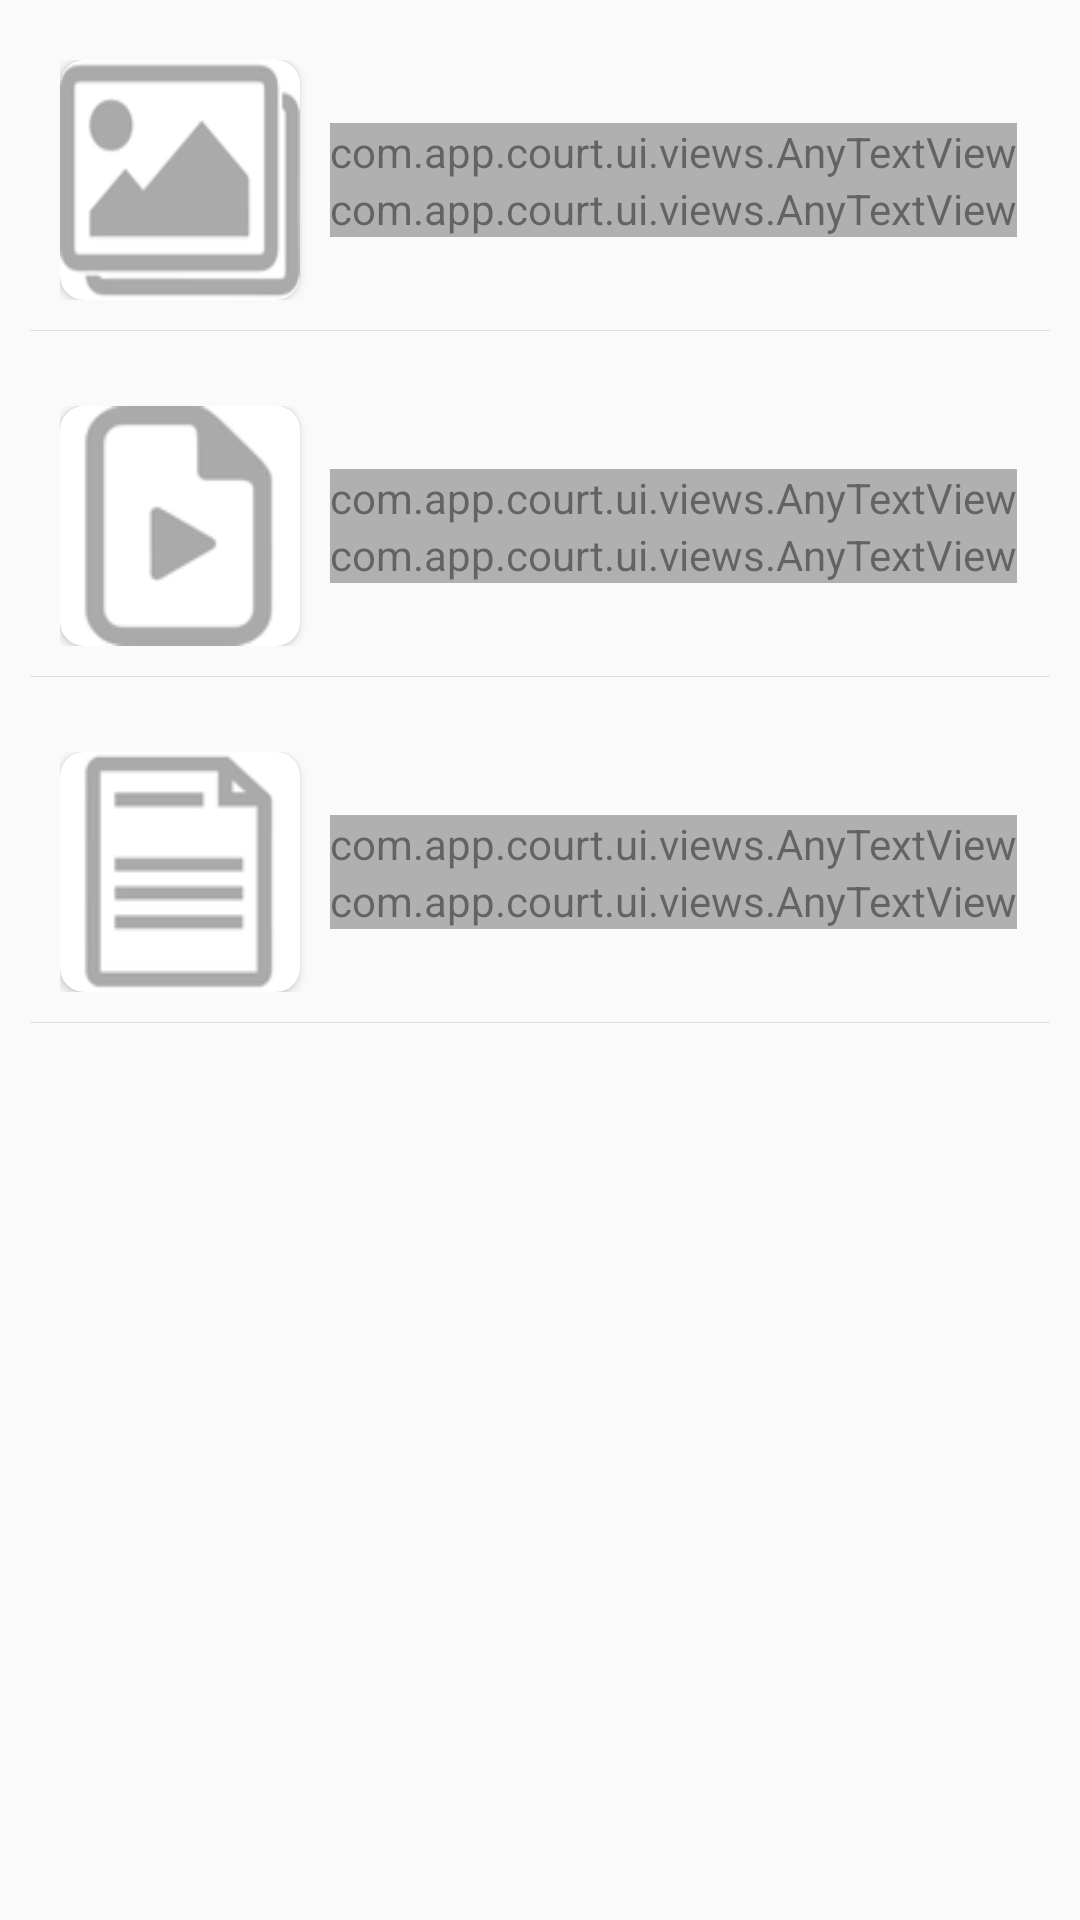

Locate icon controls on the screen. Image size 1080 x 1920, boxes as region(x1, y1, x2, y2).
thumbnail: region(60, 62, 300, 300)
